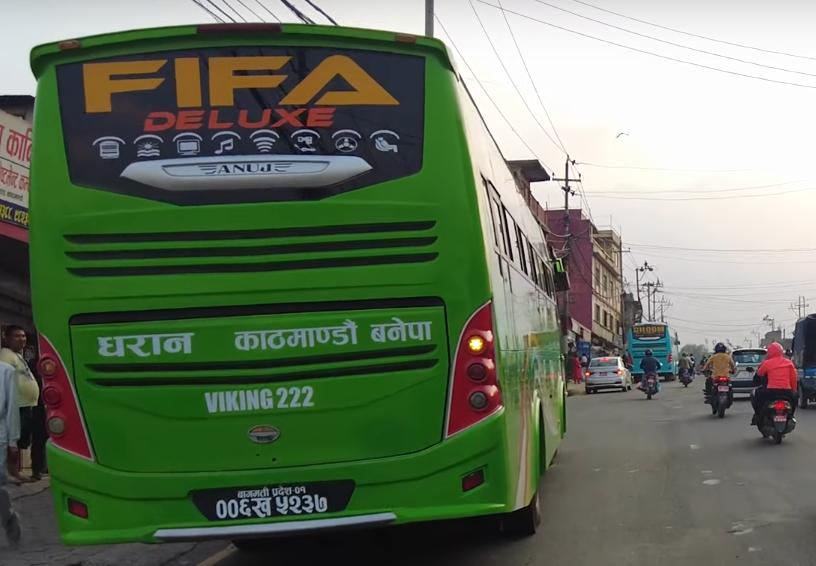bus: (26, 21, 571, 551), (620, 315, 680, 380)
scooter: (748, 377, 798, 445)
